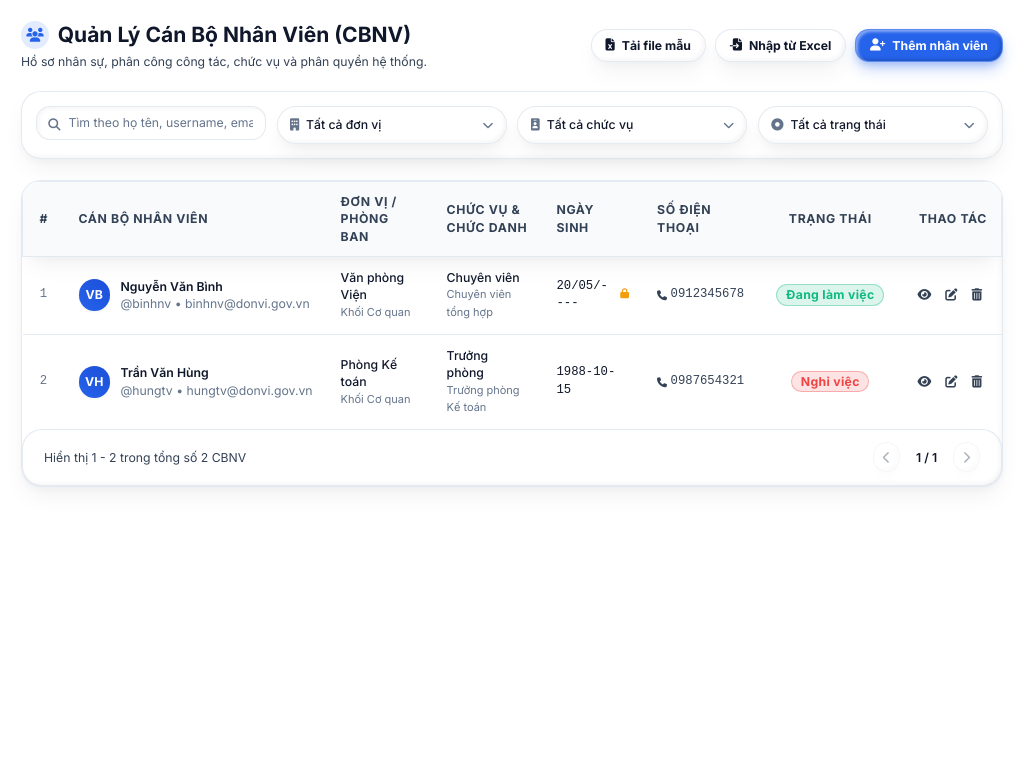
Scenario: EmployeesPage Component (Issue #24) › opens employee modal on clicking Add Employee button
Check: the text "Nguyễn Văn Bình" is shown, box [120,278,223,294]
What coordinates should you click on to do the following:
click the button "Thêm nhân viên"
I would click on:
 (929, 46)
Its box is [855,29,1003,62].
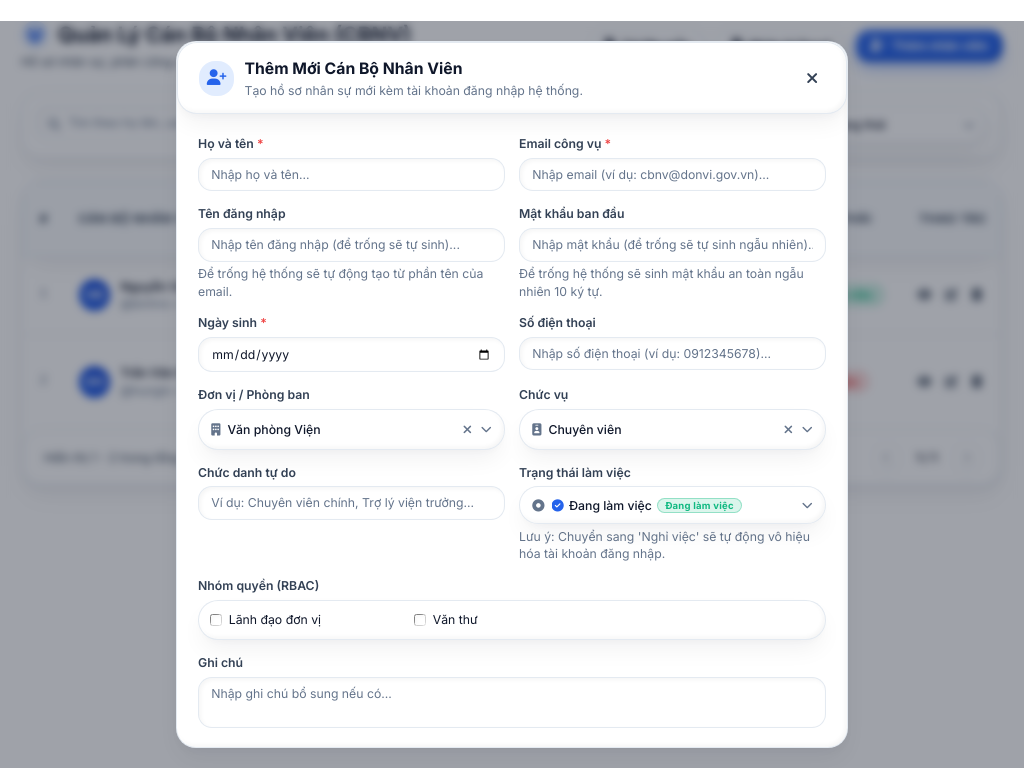
Check: the heading "Thêm Mới Cán Bộ Nhân Viên" is shown, box [244,59,462,78]
